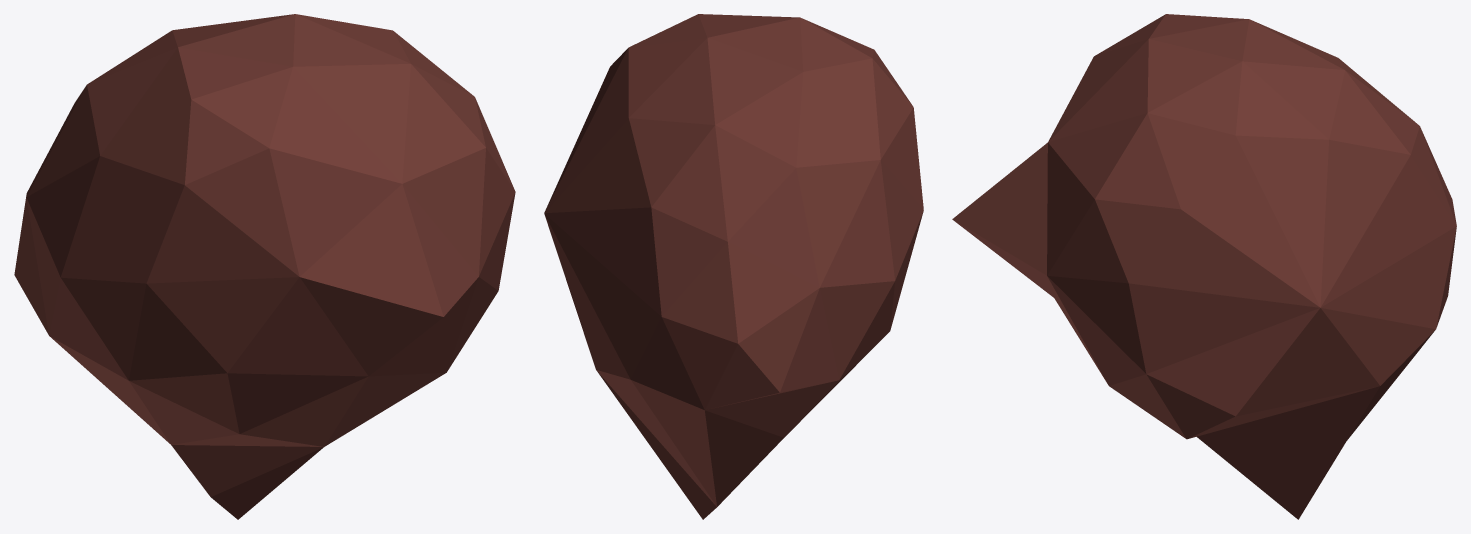
File: Model_10498_LH__Motor_trigeminal_nucleus_(5N).obj
3 renders of one model, left to right at view 1: azimuth 30°, elevation 25°; view 2: azimuth 150°, elevation 25°; view 3: azimuth 270°, elevation 25°, orthographic. The views are drawn at different scales.
Bounding box in the file's own units: 0.2259 × 0.2954 × 0.2875.
